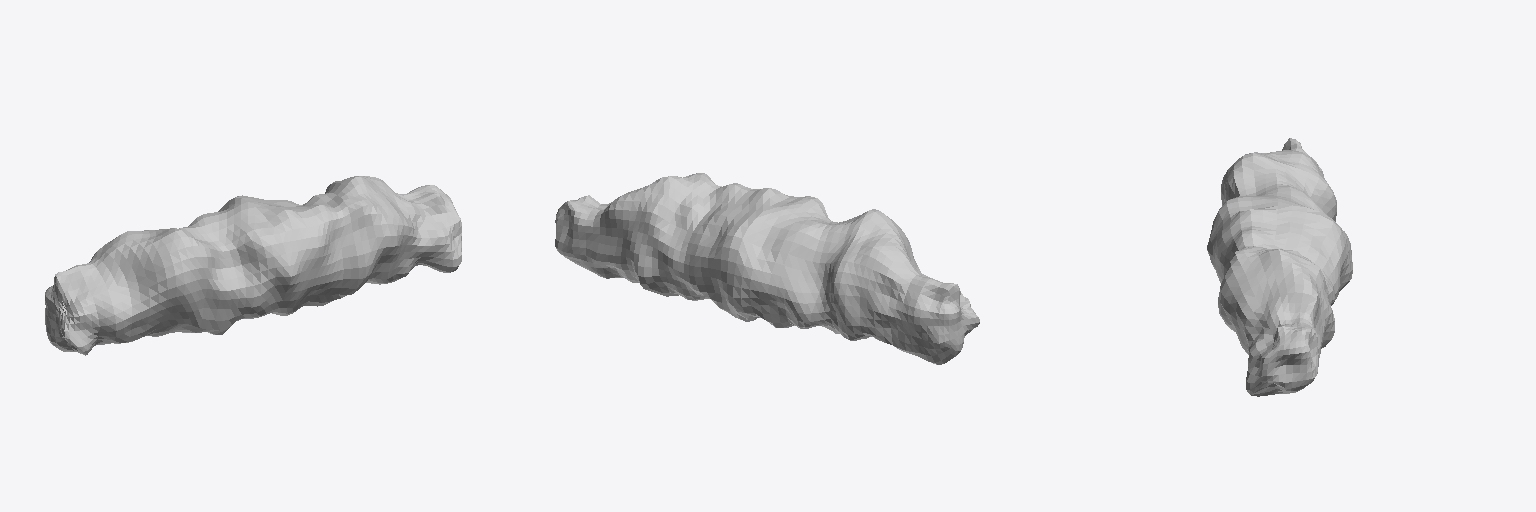
File: hair.obj
The picture shows the model from 3 angles: view 1: azimuth 30°, elevation 25°; view 2: azimuth 150°, elevation 25°; view 3: azimuth 270°, elevation 25°; orthographic projection.
Visible parts, largest first — view 1: foam_hair_Cube.001; view 2: foam_hair_Cube.001; view 3: foam_hair_Cube.001.
Boxes of the visible parts, x1,y1,x2,y2 form: foam_hair_Cube.001: [45, 176, 461, 355]; foam_hair_Cube.001: [555, 173, 979, 364]; foam_hair_Cube.001: [1207, 138, 1352, 396].
Bounding box in the file's own units: 0.0256 × 0.007 × 0.0081.